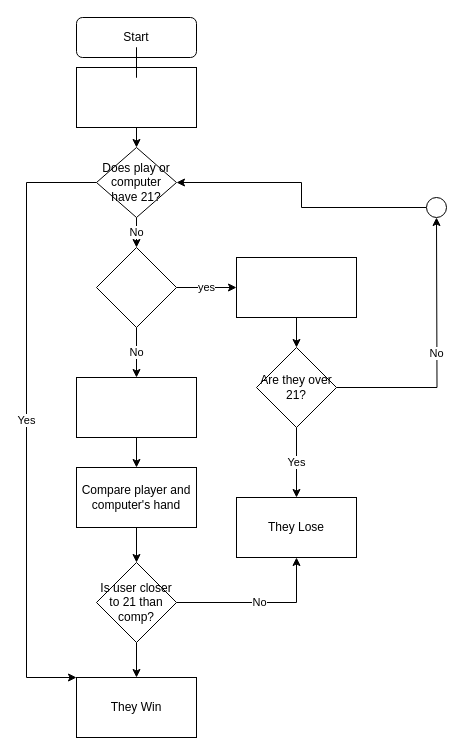
Some shapes in this 464 by 755 pixel diagram are drawn without their labels. Each missing label, with the box of its shape:
Ask if they want another card: (96, 246, 176, 328)
Deal another card: (236, 256, 356, 318)
Deal player and computer 2 cards: (76, 66, 196, 128)
If computer has less than 17 deal another card: (76, 376, 196, 438)
